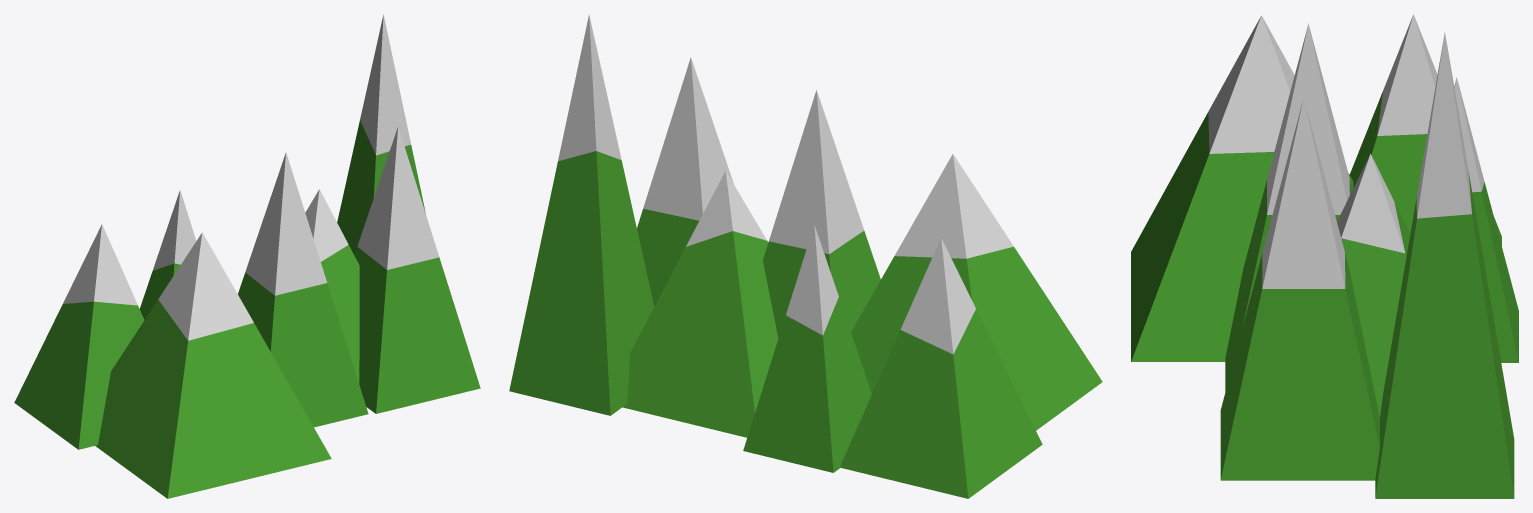
The model's file is Mountain2.fbx.
The picture shows the model from 3 angles, left to right: view 1: azimuth 30°, elevation 25°; view 2: azimuth 150°, elevation 25°; view 3: azimuth 270°, elevation 25°; orthographic projection. The views are drawn at different scales.
Visible parts, largest first — view 1: pCube45, pCube43, pCube39, pCube44, pCube42, pCube41, pCube40; view 2: pCube42, pCube44, pCube41, pCube45, pCube40, pCube39, pCube43; view 3: pCube43, pCube42, pCube45, pCube41, pCube44, pCube39, pCube40.
Boxes of the visible parts, x1,y1,x2,y2 form: pCube45: [95, 232, 331, 498]; pCube43: [354, 126, 480, 413]; pCube39: [238, 152, 368, 427]; pCube44: [14, 224, 144, 449]; pCube42: [337, 14, 425, 254]; pCube41: [305, 189, 359, 383]; pCube40: [139, 190, 196, 319]; pCube42: [509, 14, 654, 415]; pCube44: [840, 238, 1042, 498]; pCube41: [622, 171, 778, 437]; pCube45: [851, 154, 1102, 430]; pCube40: [743, 225, 871, 472]; pCube39: [763, 90, 880, 338]; pCube43: [637, 57, 733, 306]; pCube43: [1220, 98, 1379, 480]; pCube42: [1375, 32, 1514, 498]; pCube45: [1131, 15, 1353, 361]; pCube41: [1337, 153, 1410, 417]; pCube44: [1349, 14, 1501, 245]; pCube39: [1225, 23, 1352, 391]; pCube40: [1454, 77, 1518, 362].
Bounding box in the file's own units: 11.33 × 8.88 × 7.05.
